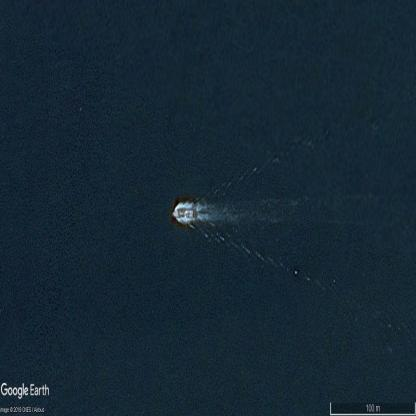ship: (172, 203, 195, 224)
